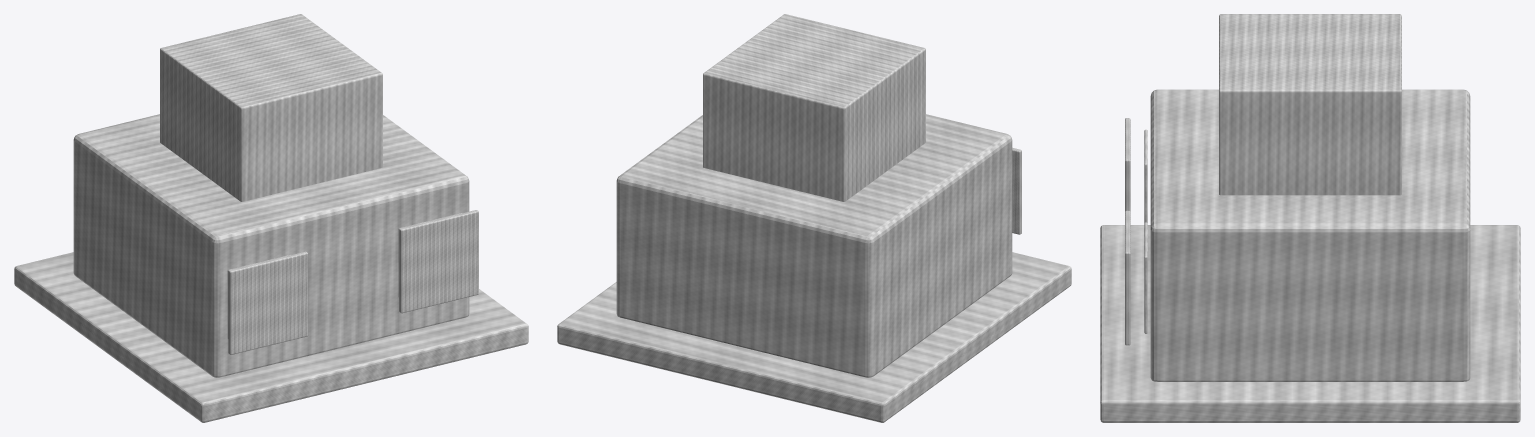
File: personnel-elevator_variant_c.glb
3 views of the same model, side by side, from view 1: azimuth 30°, elevation 25°; view 2: azimuth 150°, elevation 25°; view 3: azimuth 270°, elevation 25° (orthographic). The views are drawn at different scales.
Parts seen in each view (by area): view 1: Main structural housing.002, Lift shaft.002, Foundation.002, Protective frame.004, Protective frame.005; view 2: Main structural housing.002, Lift shaft.002, Foundation.002, Protective frame.004; view 3: Main structural housing.002, Lift shaft.002, Foundation.002, Protective frame.005, Protective frame.004, Service bay.005.
Part boxes in pixels (x1,y1,x2,y2): Main structural housing.002: [73, 114, 469, 377]; Lift shaft.002: [160, 14, 382, 201]; Foundation.002: [14, 252, 528, 422]; Protective frame.004: [228, 251, 308, 354]; Protective frame.005: [399, 210, 478, 313]; Main structural housing.002: [616, 114, 1012, 377]; Lift shaft.002: [703, 14, 925, 201]; Foundation.002: [557, 252, 1071, 422]; Protective frame.004: [1012, 147, 1021, 234]; Main structural housing.002: [1150, 89, 1470, 381]; Lift shaft.002: [1219, 14, 1401, 195]; Foundation.002: [1100, 225, 1520, 422]; Protective frame.005: [1125, 210, 1130, 345]; Protective frame.004: [1125, 118, 1130, 211]; Service bay.005: [1144, 222, 1147, 333].
Size of what is drawn, in the model's own units: 7.36 by 5.47 by 7.36.
Materials: 4 (4 with a texture image).
